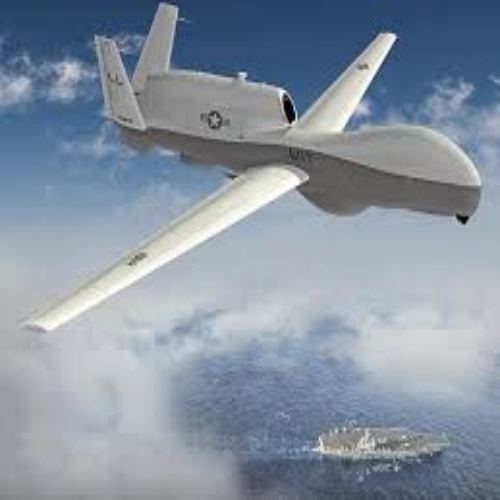uav720: (19, 5, 484, 340)
